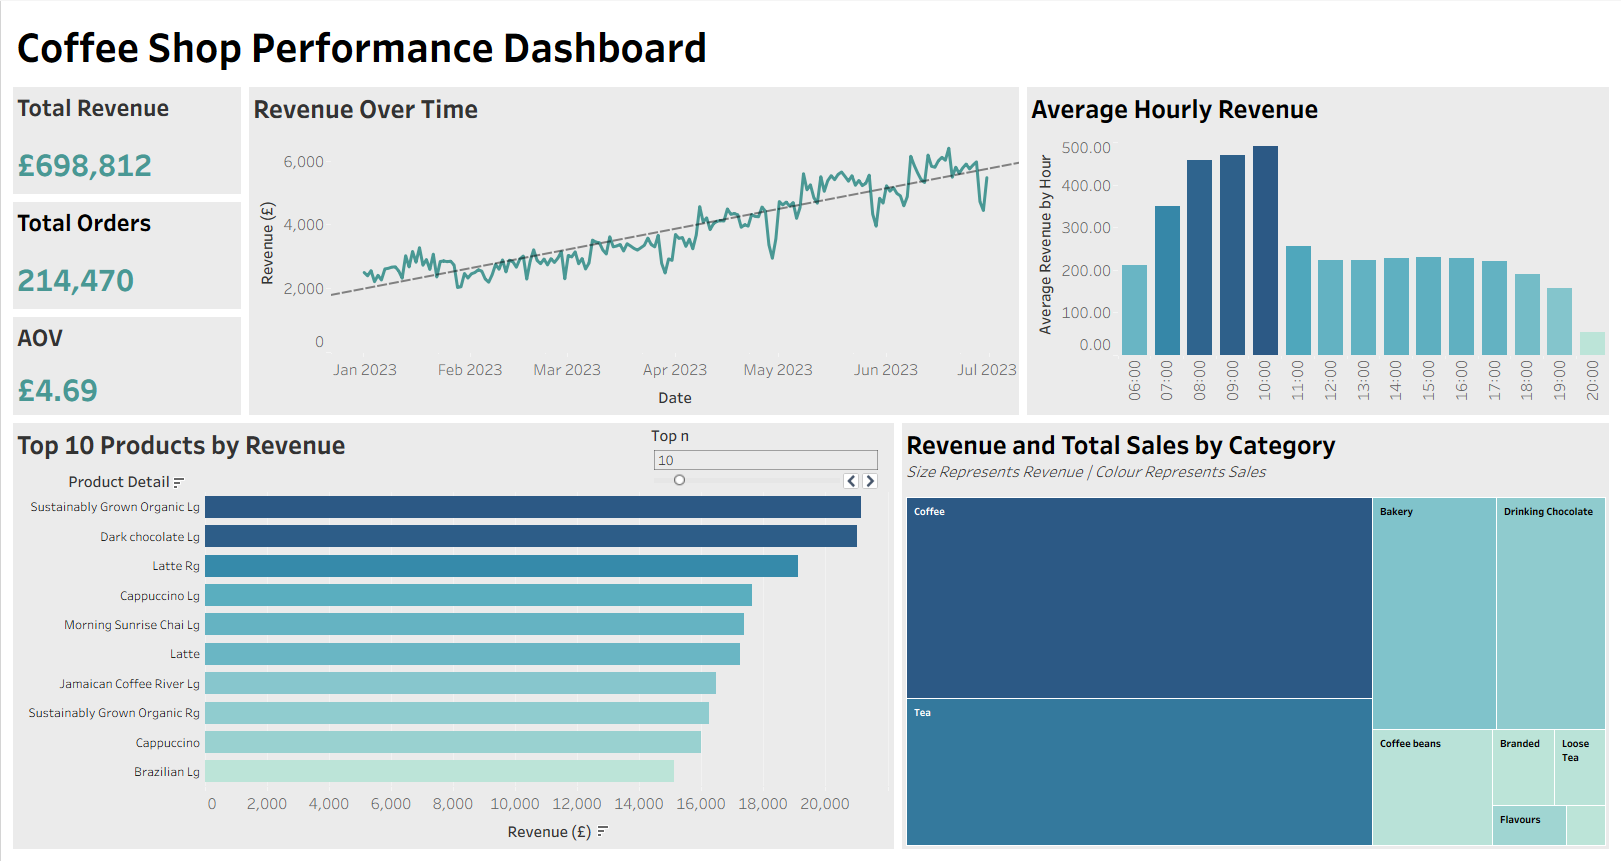

What the dashboard file says about the page in this screenshot:
{"tool":"tableau","page":{"name":"Dashboard 1","canvas":[1000,1000],"units":"permille","ordinal":0},"visuals":[{"type":"text","box":[6.1,9.3,987.9,111.6]},{"type":"worksheet","title":"AOV","mark":"Automatic","box":[6.1,120.9,183.3,123.2]},{"type":"worksheet","title":"Revenue over Time","mark":"Line","rows":["Calculation_4284851545694209"],"cols":["transaction_date"],"box":[189.4,120.9,804.6,365.1]},{"type":"worksheet","title":"Orders","mark":"Automatic","box":[6.1,244.2,183.3,120.9]},{"type":"text","box":[747,315.1,232.6,86]},{"type":"worksheet","title":"Revenue","mark":"Automatic","box":[6.1,365.1,183.3,120.9]},{"type":"worksheet","title":"Top Products by Revenue","mark":"Automatic","rows":["product_detail"],"cols":["Calculation_4284851545694209"],"box":[6.1,486.1,547.7,504.7]},{"type":"worksheet","title":"Revenue and Total Sales by Category","mark":"Automatic","box":[553.8,486.1,440.2,504.7]},{"type":"parameter","param":"[Parameters].[Parameter 1]","box":[401.5,493,141.7,82.6]}]}

Visuals, with their boxes on the dashboard's canvas, which has no fixed pixel size, in thousandths of its width and height (x1, y1, x2, y2). These are canvas units, not pixel positions in the 1621x861 screenshot, which may show the page scaled, cropped or inside an application window:
text: left=6, top=9, right=994, bottom=121
"AOV" worksheet: left=6, top=121, right=189, bottom=244
"Revenue over Time" worksheet (Line marks): left=189, top=121, right=994, bottom=486
"Orders" worksheet: left=6, top=244, right=189, bottom=365
text: left=747, top=315, right=980, bottom=401
"Revenue" worksheet: left=6, top=365, right=189, bottom=486
"Top Products by Revenue" worksheet: left=6, top=486, right=554, bottom=991
"Revenue and Total Sales by Category" worksheet: left=554, top=486, right=994, bottom=991
parameter: left=402, top=493, right=543, bottom=576
